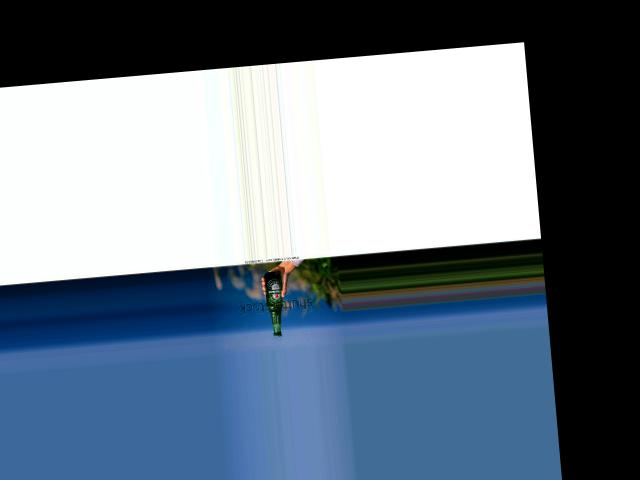beer: (263, 270, 285, 336)
